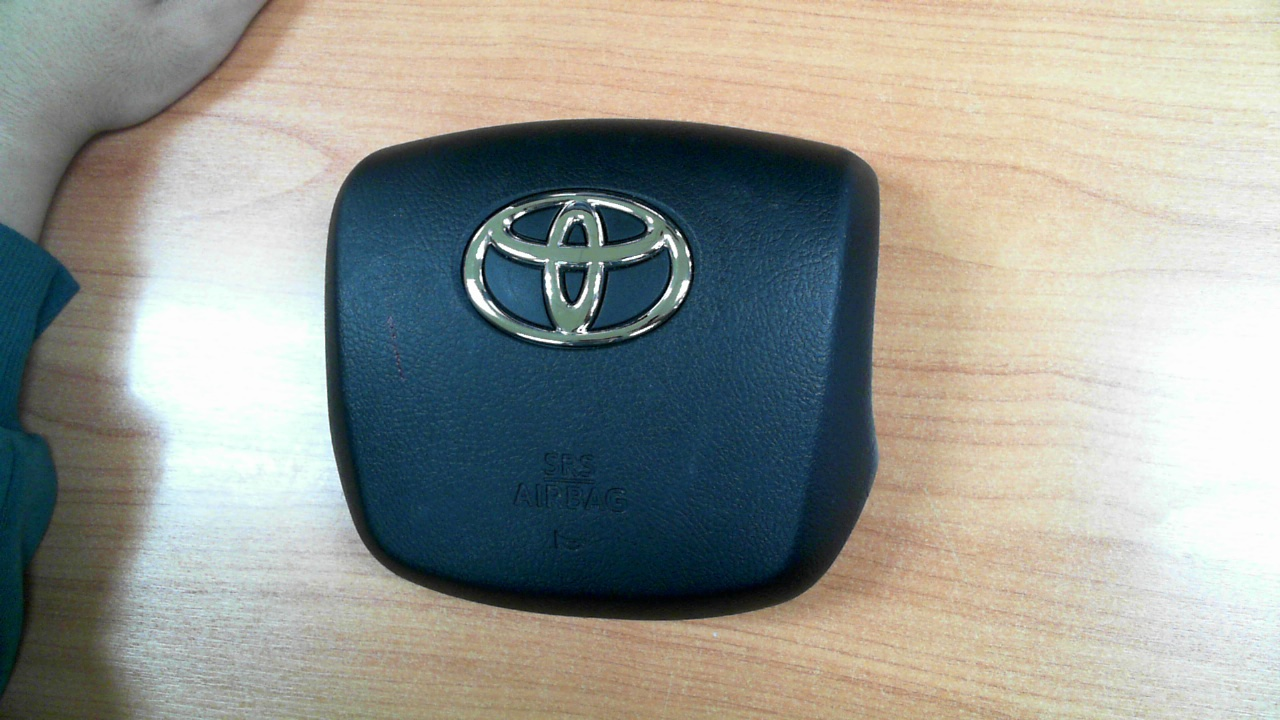Airbag: (323, 118, 882, 621)
Toyota: (463, 191, 693, 346)
